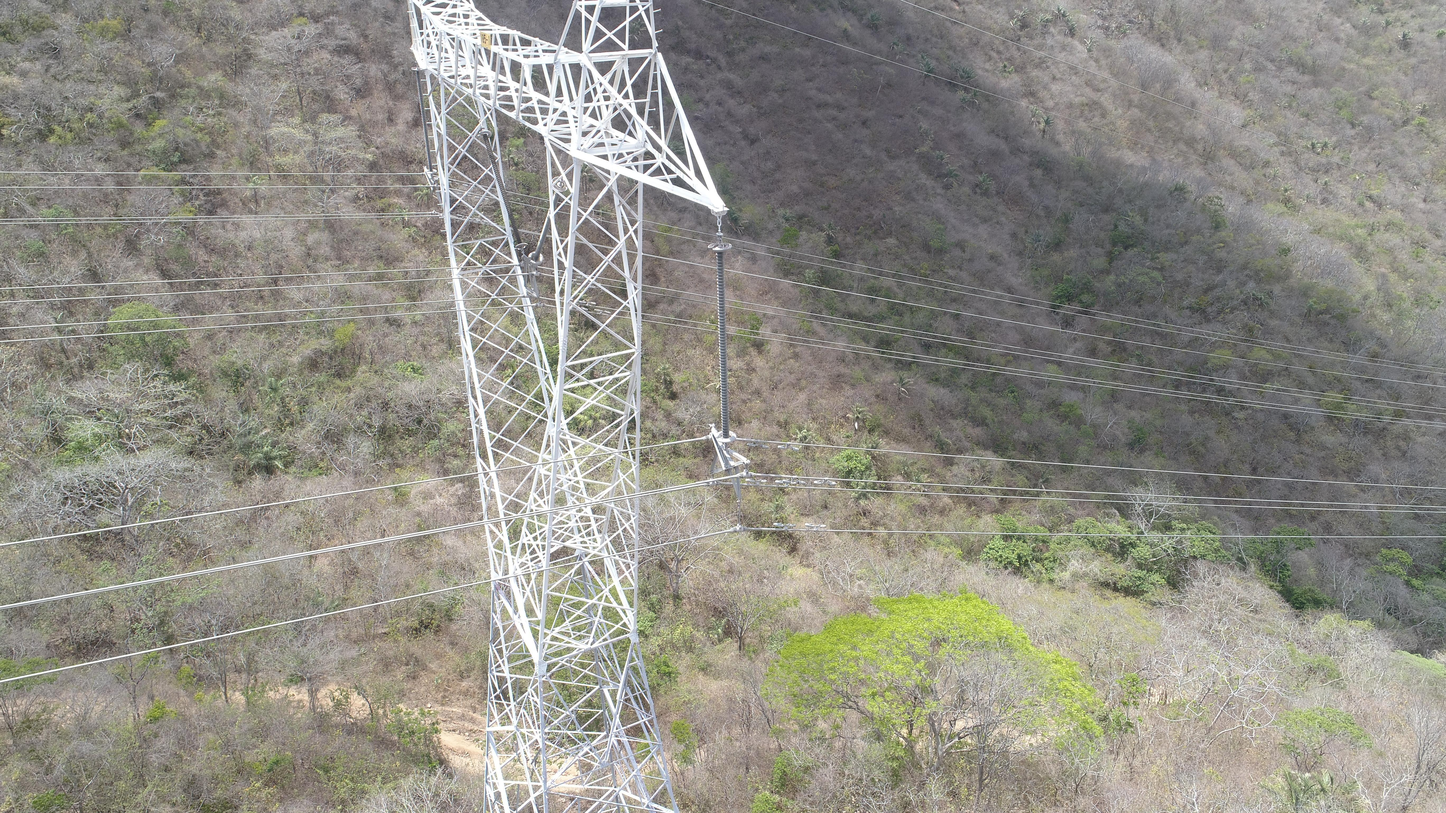power_tower: (410, 0, 729, 812)
